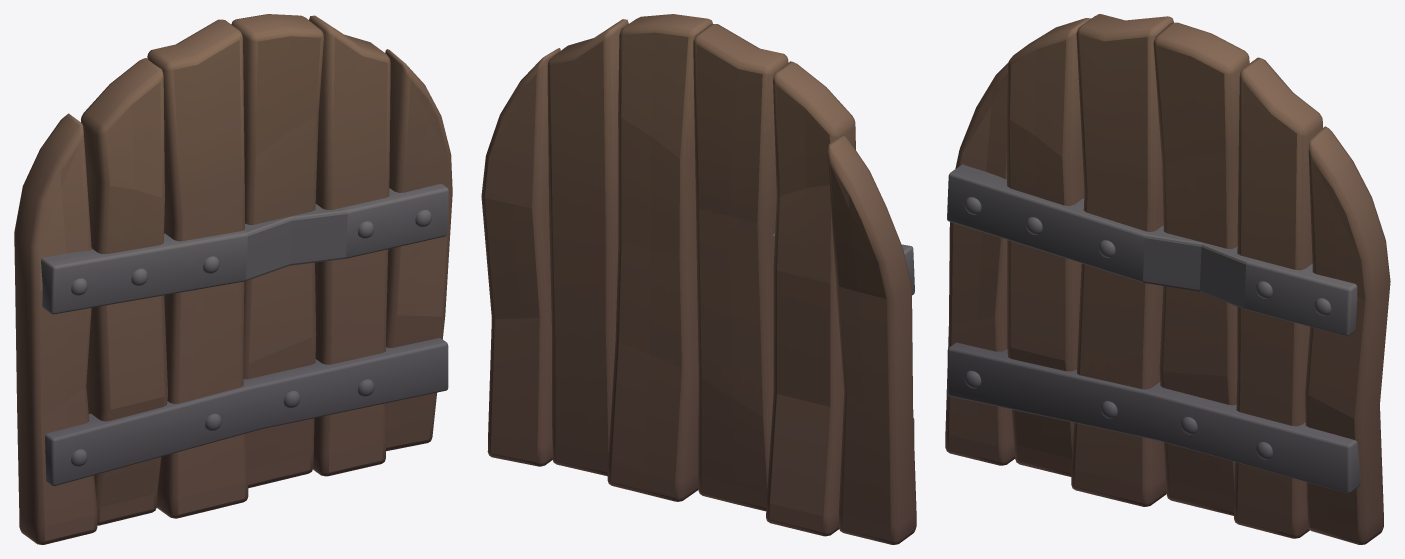
Rendered from gateDoor_1.fbx.
3 renders of one model, left to right at view 1: azimuth 30°, elevation 25°; view 2: azimuth 150°, elevation 25°; view 3: azimuth 330°, elevation 25°, orthographic. The views are drawn at different scales.
Visible parts, largest first — view 1: gate_hurt1; view 2: gate_hurt1; view 3: gate_hurt1.
Boxes of the visible parts, x1=… form: gate_hurt1: x1=14, y1=14, x2=452, y2=544; gate_hurt1: x1=481, y1=14, x2=916, y2=544; gate_hurt1: x1=945, y1=14, x2=1390, y2=544.
Size of the model in its own units: 175 by 187 by 31.46.
